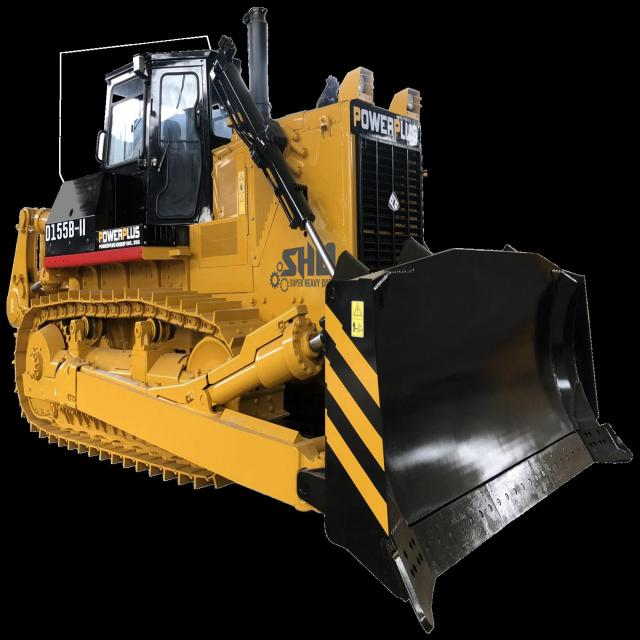Bulldozer: (3, 29, 637, 627)
